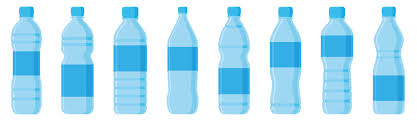bottle: (367, 4, 410, 118), (57, 4, 98, 116), (319, 4, 358, 120), (6, 4, 46, 115), (215, 5, 253, 121), (111, 4, 149, 117), (268, 4, 304, 121), (164, 7, 200, 118)
